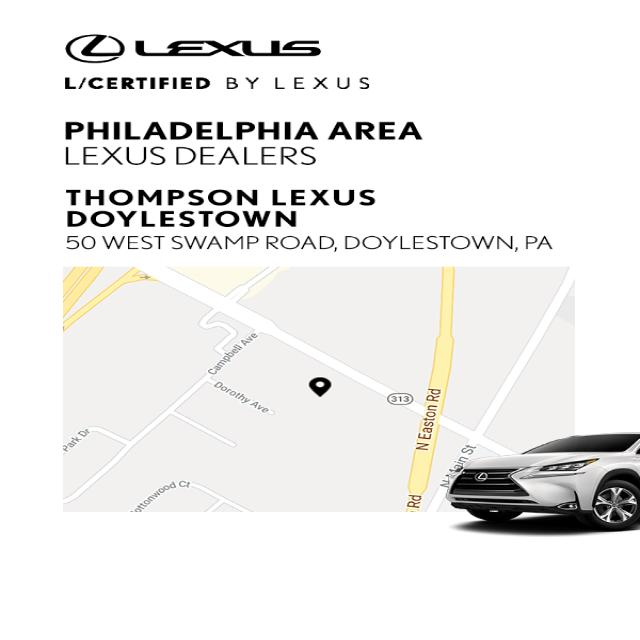Background Image: (3, 1, 637, 636)
Map or Location Image: (61, 264, 575, 512)
Seal or Badge: (445, 432, 638, 530)
Text Elements: (62, 118, 423, 166), (63, 186, 378, 228), (64, 233, 554, 251), (63, 119, 422, 141), (64, 34, 322, 62), (62, 75, 371, 90), (62, 75, 210, 90), (129, 479, 190, 512), (412, 387, 442, 451), (438, 443, 476, 489)
